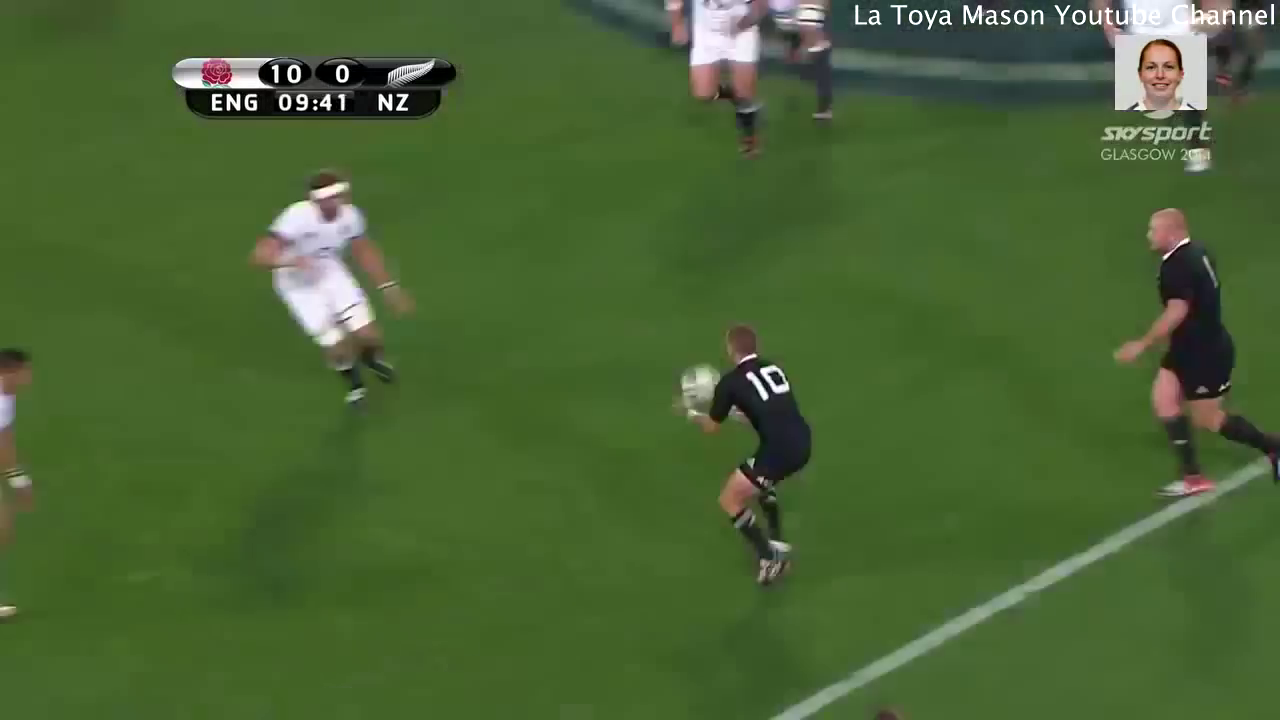ball: (663, 348, 738, 429)
player: (1089, 194, 1280, 509), (221, 156, 429, 421), (662, 313, 837, 604), (657, 1, 782, 165), (1, 322, 56, 647), (761, 1, 850, 129)
